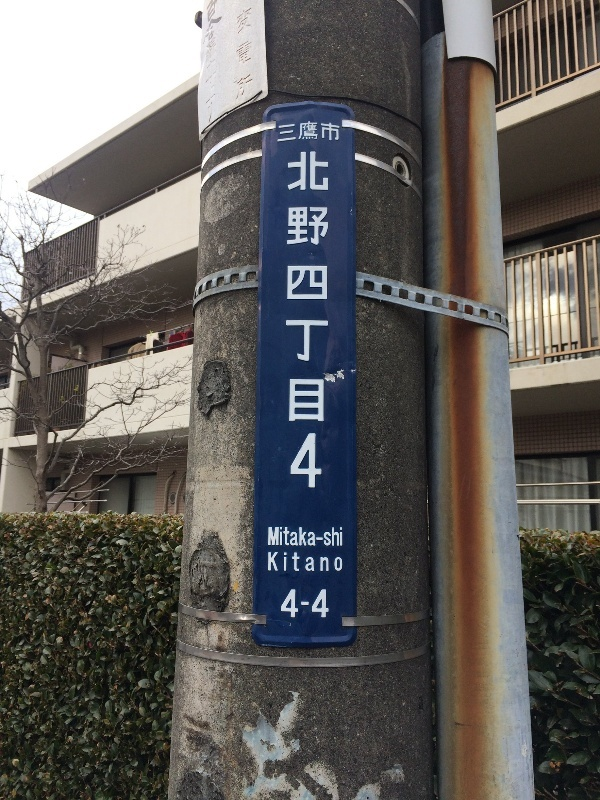text: (289, 147, 304, 494), (305, 147, 320, 494), (321, 147, 330, 494), (209, 1, 223, 128), (241, 4, 254, 101), (234, 4, 240, 101), (289, 587, 304, 621), (305, 587, 320, 621), (204, 1, 208, 128), (289, 120, 304, 147), (305, 120, 320, 147), (321, 120, 336, 147), (273, 525, 288, 552), (289, 525, 304, 552), (305, 525, 320, 552), (321, 525, 336, 552), (273, 551, 288, 576), (289, 551, 304, 576), (305, 551, 320, 576), (321, 551, 336, 576), (321, 587, 330, 621), (278, 120, 288, 147), (281, 587, 288, 621), (337, 525, 344, 552), (337, 551, 344, 576), (267, 525, 272, 552), (337, 120, 341, 147), (268, 551, 272, 576)
